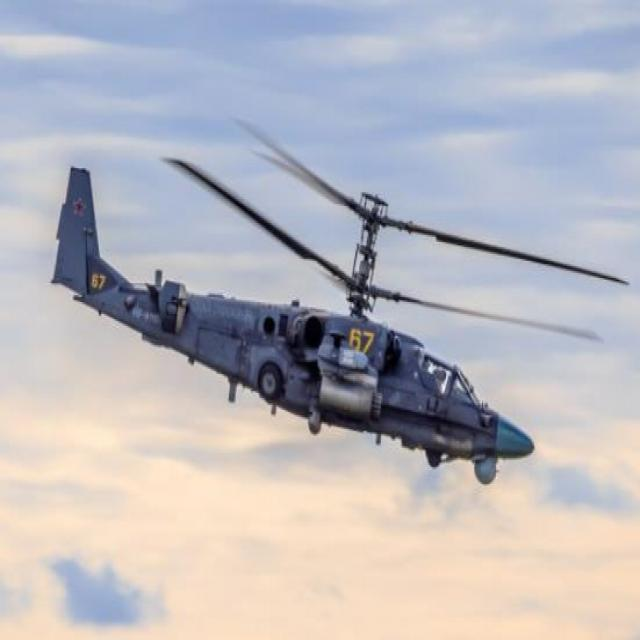MIL_HELO: (45, 95, 640, 506)
